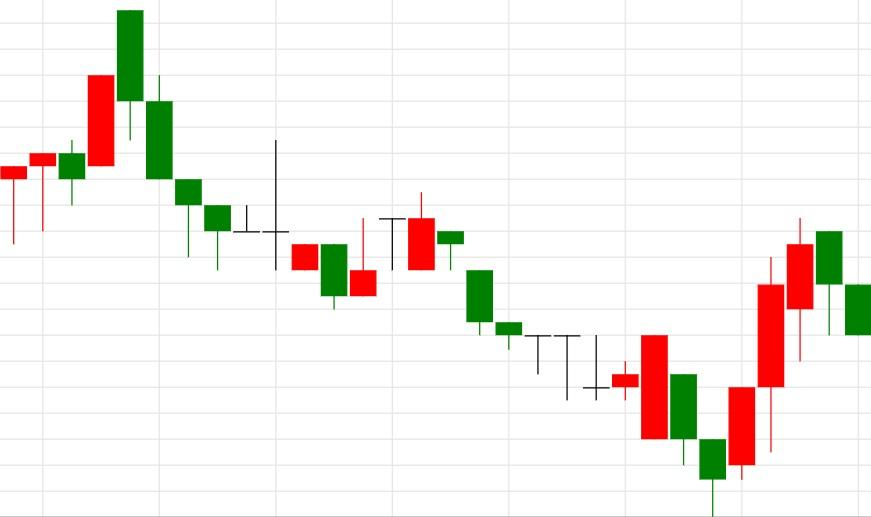inverse_hammer_rise: (116, 9, 376, 310)
three_black_crows_fall: (0, 9, 202, 258)
